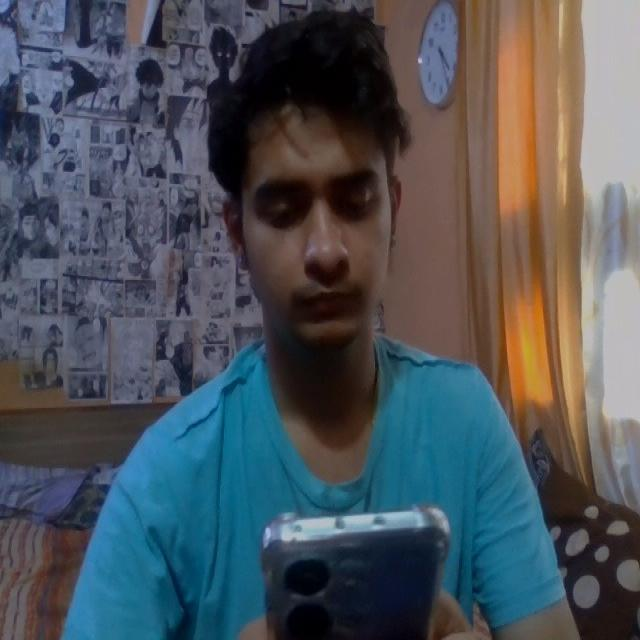phone: (261, 506, 453, 640)
using-phone: (55, 14, 592, 640)
